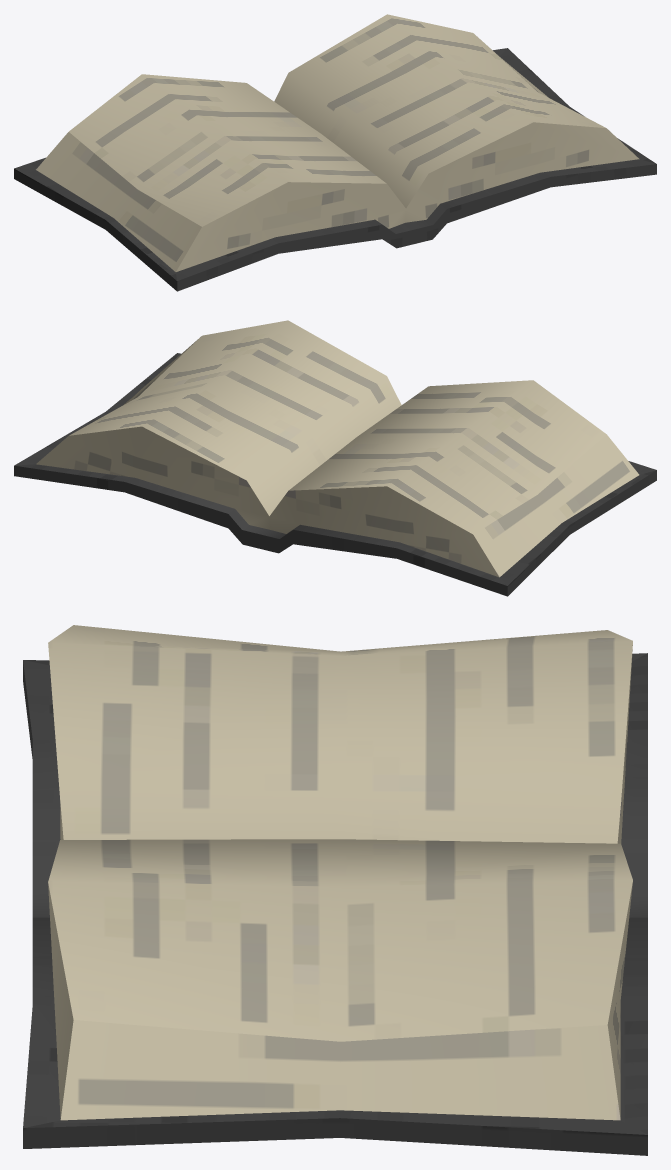
File: bible.fbx
The picture shows the model from 3 angles, top to bottom: view 1: azimuth 30°, elevation 25°; view 2: azimuth 150°, elevation 25°; view 3: azimuth 270°, elevation 25°; orthographic projection. The views are drawn at different scales.
Visible parts, largest first — view 1: book; view 2: book; view 3: book.
Boxes of the visible parts, box(x1,y1,x2,y2) form: book: box(14, 14, 656, 291); book: box(14, 320, 656, 596); book: box(23, 625, 647, 1155).
Size of the model in its own units: 259 by 45.03 by 142.
